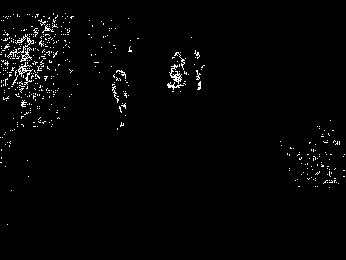person: (103, 66, 132, 129)
